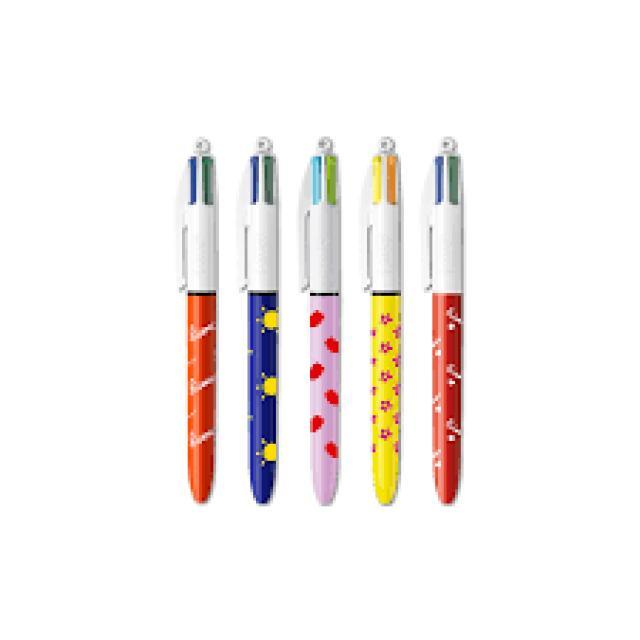pen: (298, 136, 342, 504), (238, 136, 280, 503), (178, 138, 218, 502), (363, 136, 402, 503), (426, 137, 464, 503)
